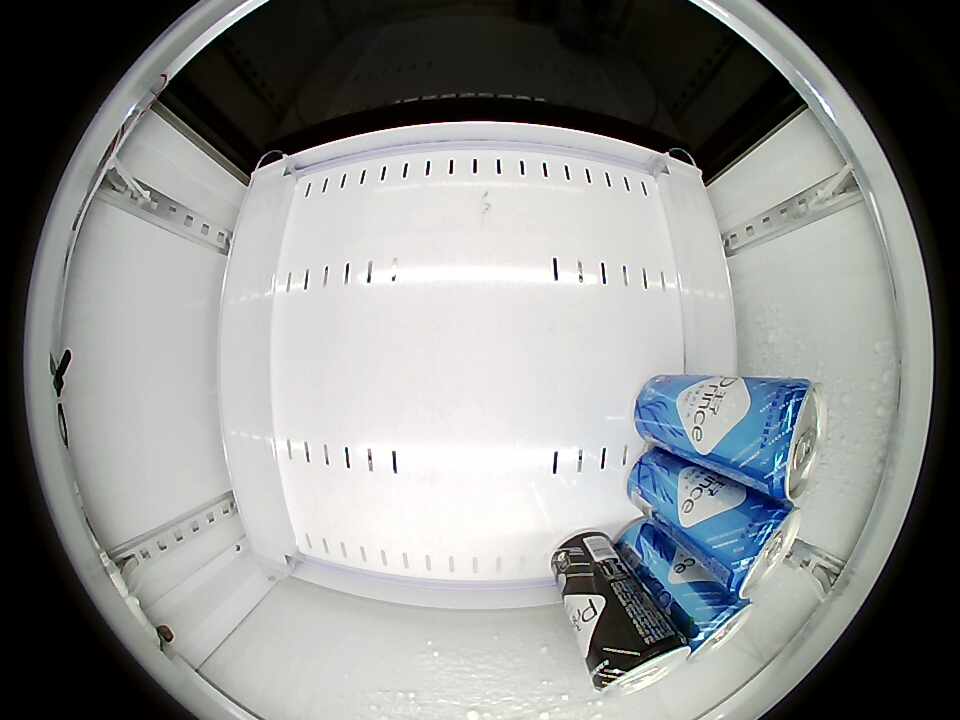qingdaowangzi-1: (587, 619, 691, 700)
qingdaowangzi-2: (744, 379, 824, 501), (708, 500, 803, 600), (683, 591, 755, 659)
